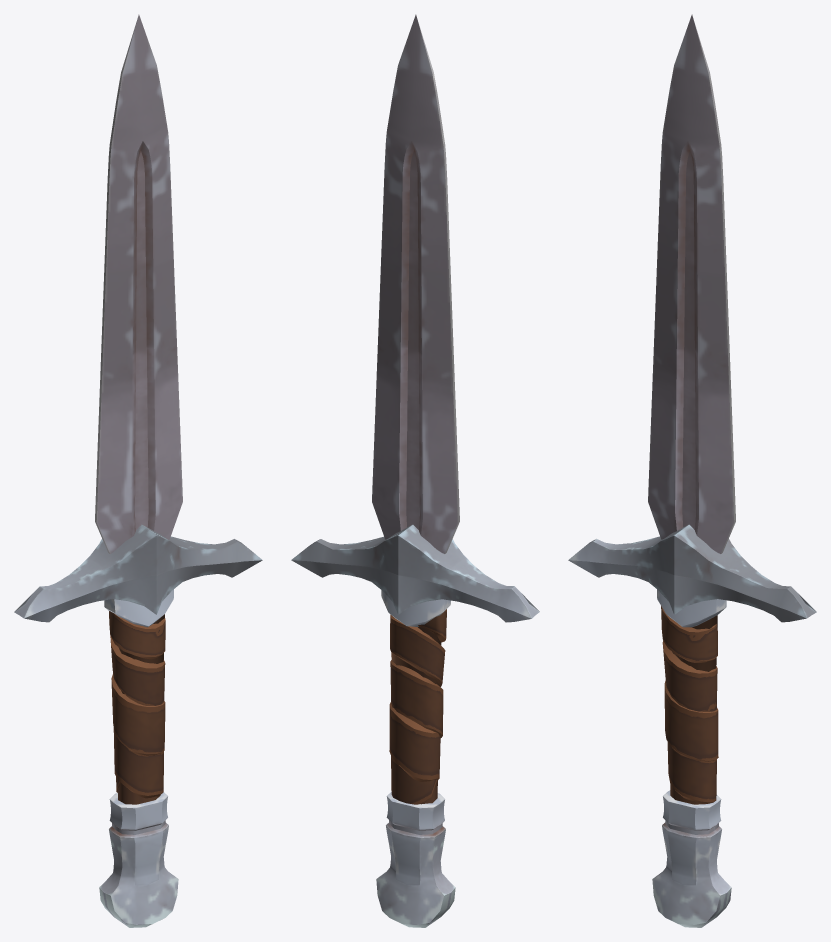
Rendered from Dagger_Steel_Steel.fbx.
The picture shows the model from 3 angles, left to right: view 1: azimuth 30°, elevation 25°; view 2: azimuth 150°, elevation 25°; view 3: azimuth 330°, elevation 25°; orthographic projection.
Visible parts, largest first — view 1: Dagger_Steel_Steel; view 2: Dagger_Steel_Steel; view 3: Dagger_Steel_Steel.
Boxes of the visible parts, x1,y1,x2,y2 form: Dagger_Steel_Steel: (14,14,262,927); Dagger_Steel_Steel: (291,14,539,927); Dagger_Steel_Steel: (568,14,816,927).
Size of the model in its own units: 21.1 by 76.31 by 5.39.
